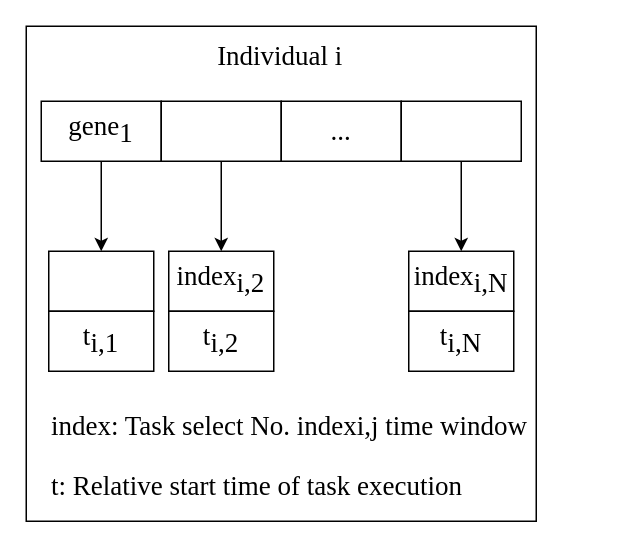
This 638x548 diagram has some shape labels left out. Each missing label, with the box of its shape:
gene 2: (160, 100, 281, 161)
gene N: (400, 100, 521, 161)
index i,1: (47, 250, 154, 311)
